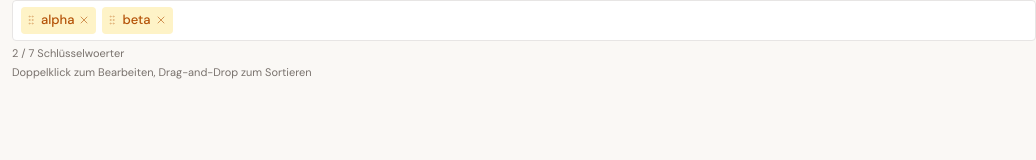
Test case: KeywordInput - inline edit › Enter in edit mode commits the change
Double-click the element with test id "keyword-chip-0" at (59, 20), box [21,7,96,34]
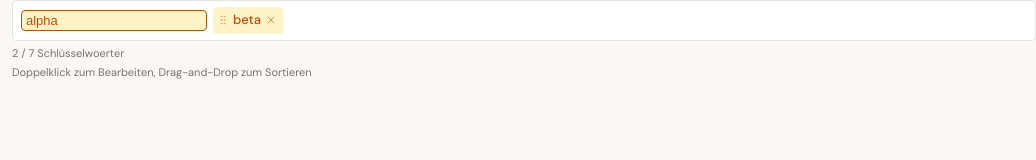
Replace the text in the field with test id "keyword-chip-0-edit-input" with "alpha prime" at (114, 20), box [26,13,202,28]
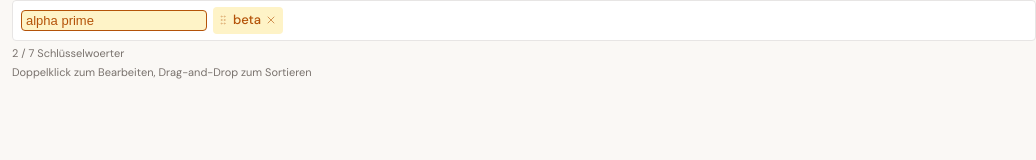
Press Enter in the field with test id "keyword-chip-0-edit-input", box [26,13,202,28]
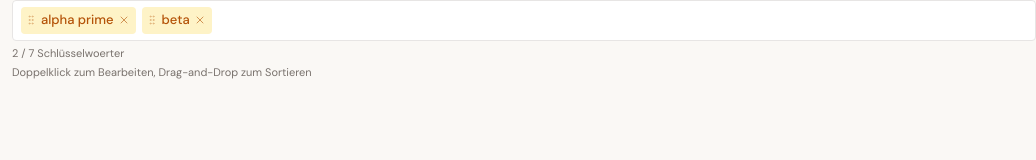
Check: the field with test id "keyword-chip-0-edit-input" is gone
Check: the element with test id "keyword-chip-0" reads "alpha prime", box [41,11,114,28]
